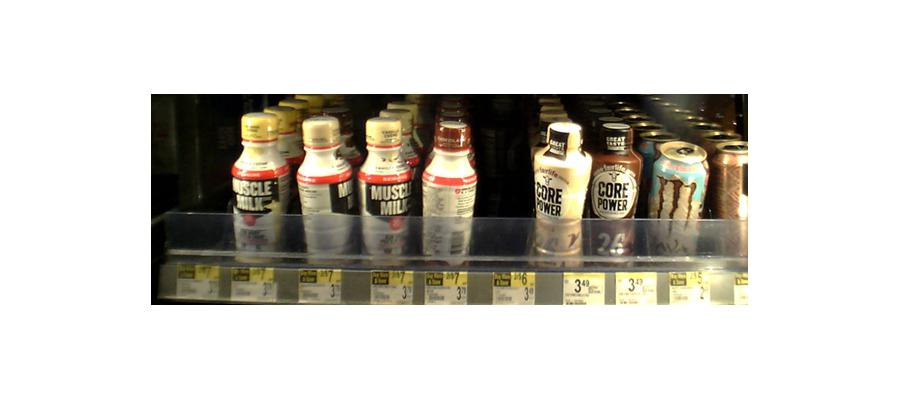bottle: (294, 121, 358, 264), (421, 109, 476, 268), (531, 121, 591, 263), (231, 111, 289, 257), (360, 116, 416, 260), (647, 138, 707, 262), (591, 123, 643, 261), (714, 135, 748, 262)
